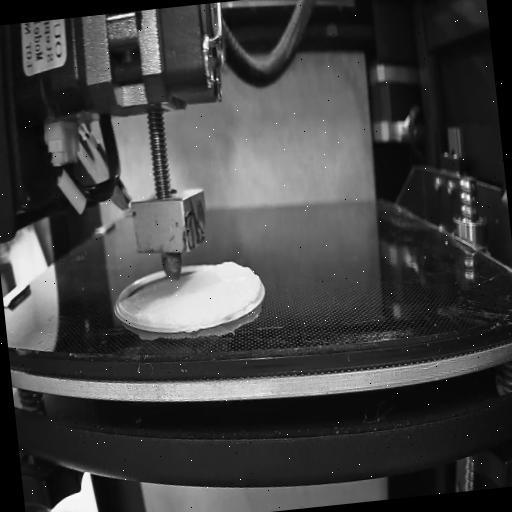over_extrusion: (220, 254, 266, 304)
